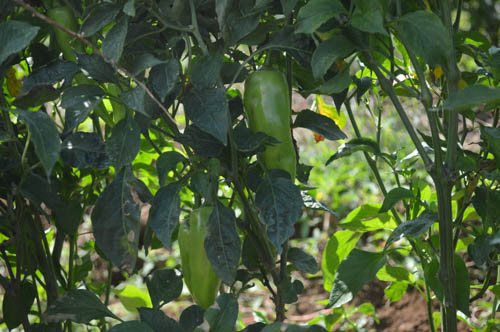ChiliPepper: (244, 71, 299, 178), (174, 208, 219, 306)
